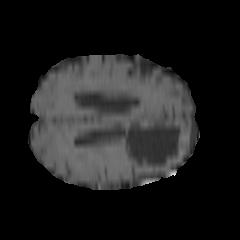glioma: (63, 64, 190, 171)
